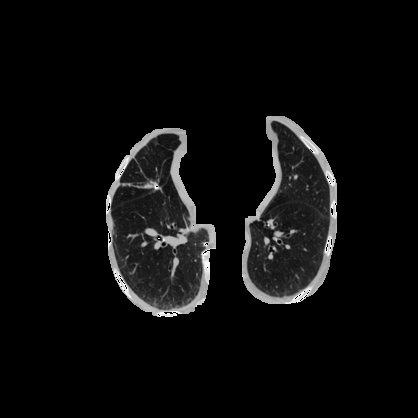PN: (203, 242, 207, 246)
